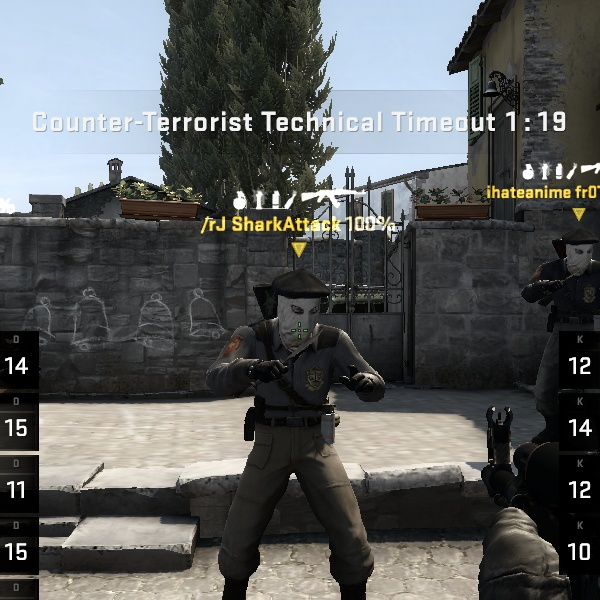t_body: (194, 265, 394, 595)
t_head: (251, 266, 335, 345)
